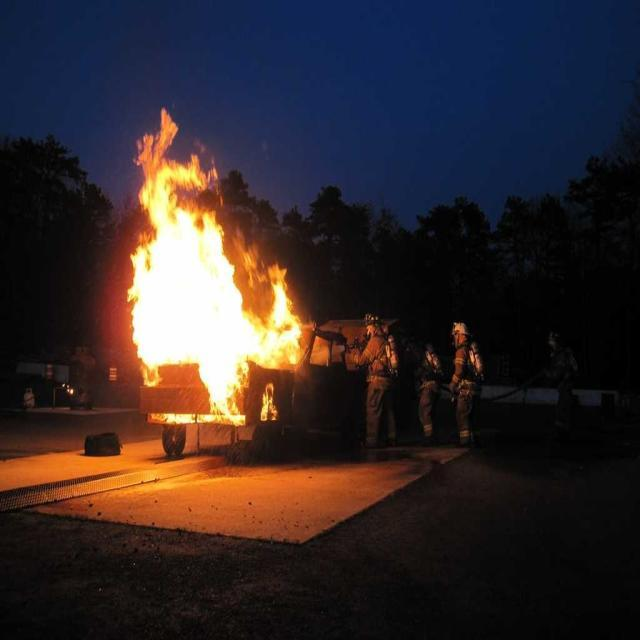Fire: (155, 242, 224, 364)
